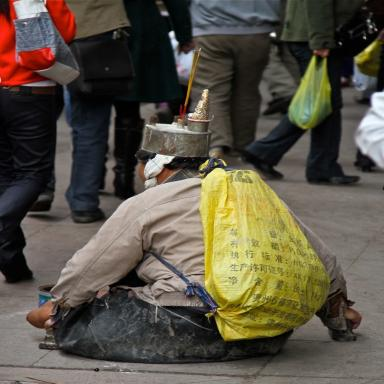plasticbag: (194, 158, 329, 341), (286, 52, 336, 128)
